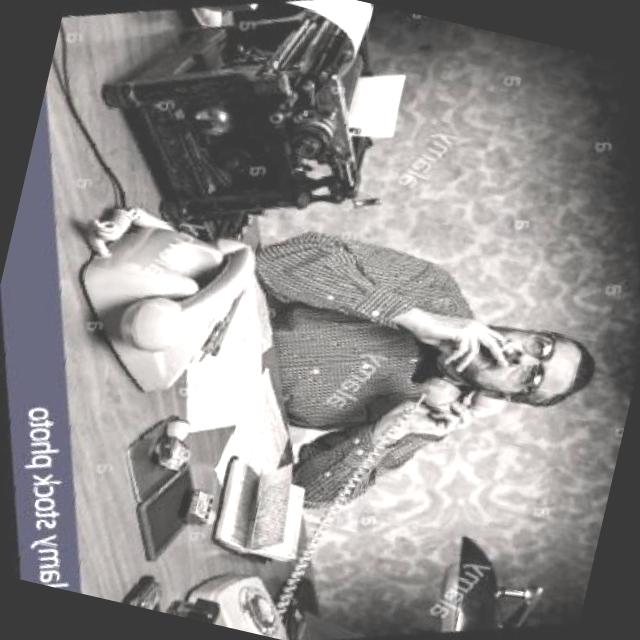cigarette: (394, 302, 523, 388)
